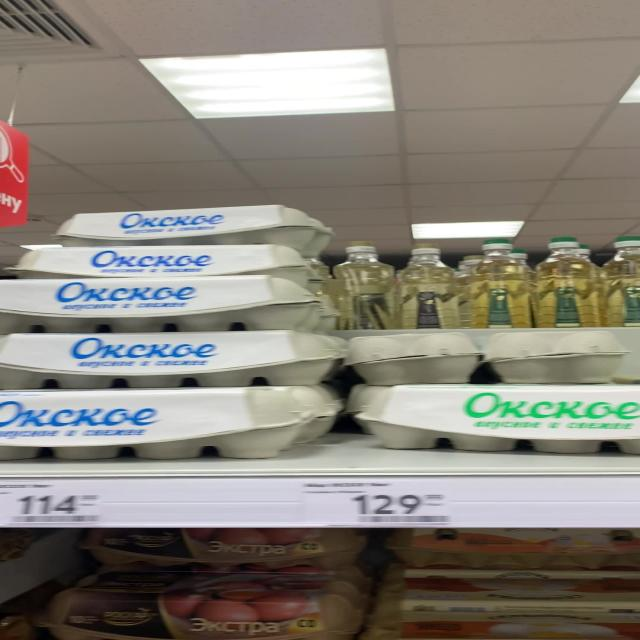egg box: (2, 387, 336, 461), (360, 381, 636, 456), (57, 568, 357, 634), (0, 280, 329, 334), (0, 336, 337, 383), (370, 577, 630, 637), (7, 242, 313, 284), (57, 205, 325, 250), (528, 237, 602, 328), (458, 237, 524, 328), (394, 240, 459, 332), (330, 241, 396, 330)
